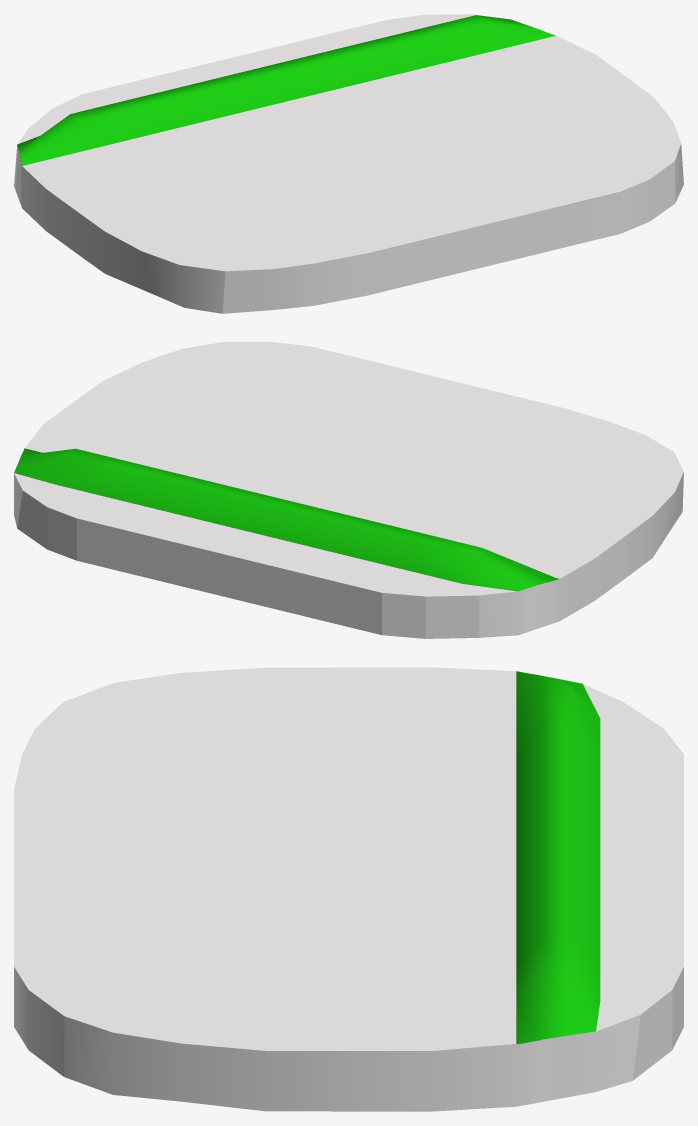
File: key card model groen.fbx
3 renders of one model, top to bottom at view 1: azimuth 30°, elevation 25°; view 2: azimuth 150°, elevation 25°; view 3: azimuth 270°, elevation 25°, orthographic. The views are drawn at different scales.
Parts seen in each view (by area): view 1: pPlane1; view 2: pPlane1; view 3: pPlane1.
Boxes of the visible parts, x1,y1,x2,y2 form: pPlane1: (14, 14, 683, 313); pPlane1: (14, 342, 683, 638); pPlane1: (14, 667, 683, 1111).
Size of the model in its own units: 6.18 by 0.6778 by 4.56.
1 material, 1 textured.
